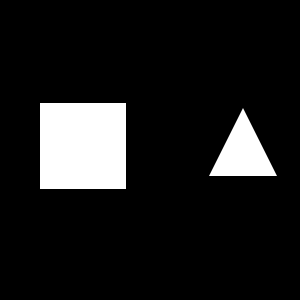circle: (40, 103, 126, 189)
triangle: (209, 108, 277, 176)
